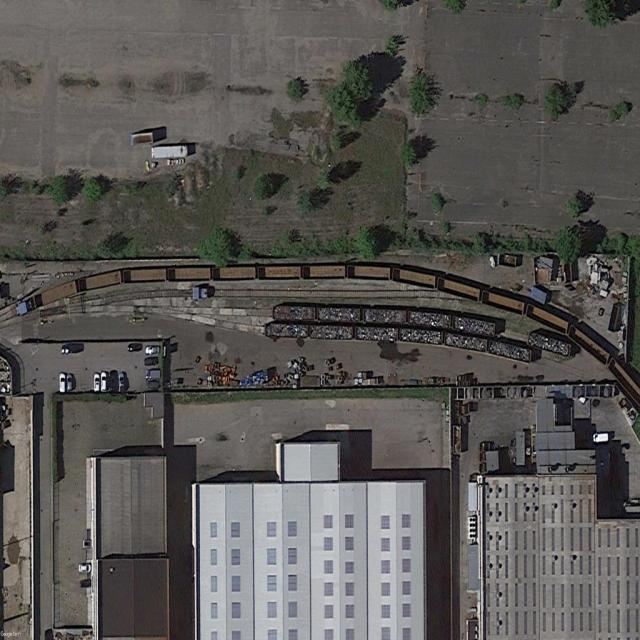dump_site: (528, 331, 570, 358), (489, 339, 532, 364), (445, 331, 487, 354), (453, 316, 495, 336), (400, 327, 443, 346), (408, 311, 451, 328), (265, 322, 308, 339), (317, 307, 360, 323), (310, 325, 353, 341), (363, 309, 407, 324), (355, 326, 398, 341), (273, 307, 316, 320)
